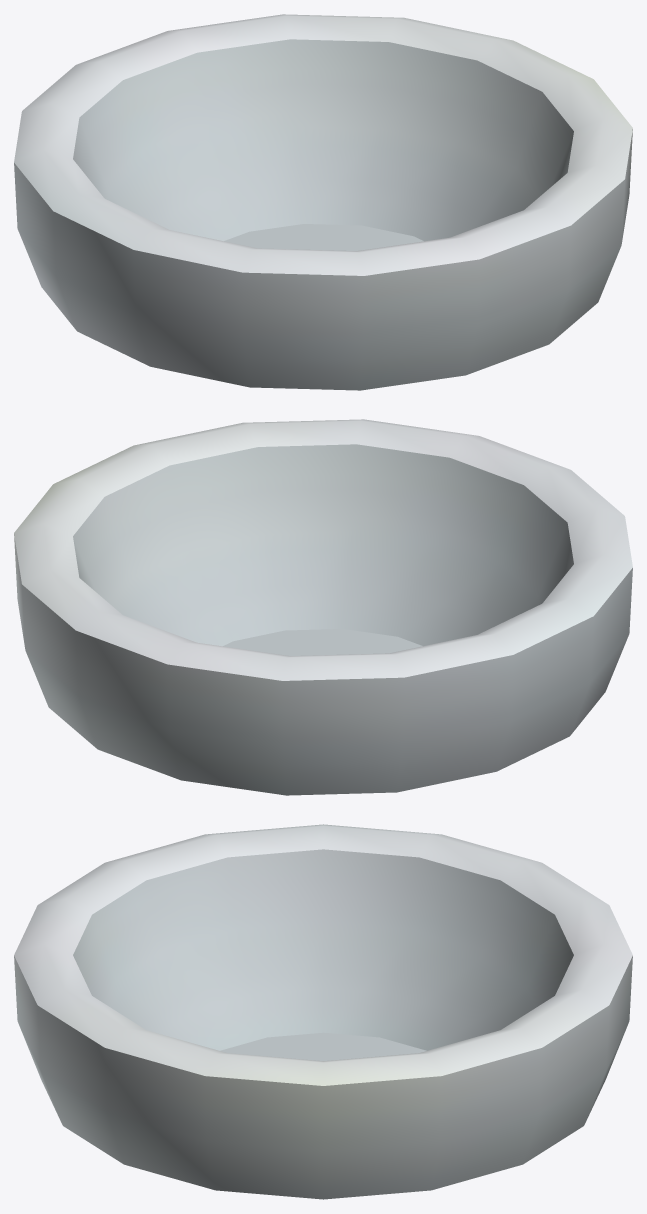
The model's file is kay-tigela.gltf.
The picture shows the model from 3 angles, top to bottom: view 1: azimuth 30°, elevation 25°; view 2: azimuth 150°, elevation 25°; view 3: azimuth 270°, elevation 25°; orthographic projection.
Visible parts, largest first — view 1: bowl; view 2: bowl; view 3: bowl.
Part boxes in pixels (bbox=[...]): bowl: bbox=[14, 14, 632, 390]; bowl: bbox=[14, 419, 632, 795]; bowl: bbox=[14, 824, 632, 1199].
Size of the model in its own units: 0.6175 by 0.195 by 0.6175.
1 material, 1 textured.
